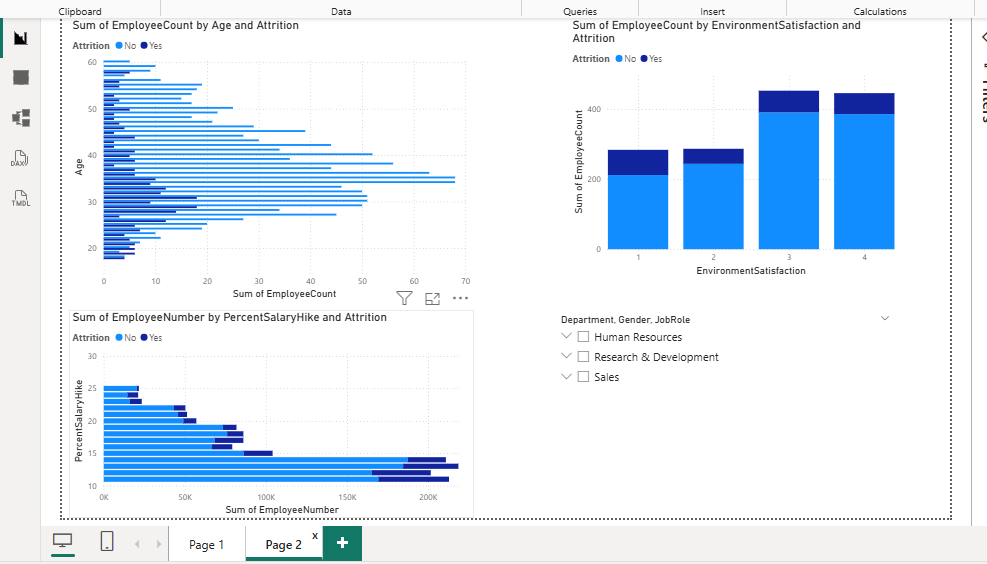

The dashboard page shown, as its layout file describes it:
{"tool":"powerbi","page":{"name":"Page 2","canvas":[1280,720],"ordinal":1},"visuals":[{"type":"clusteredBarChart","fields":{"Category":["WA_Fn-UseC_-HR-Employee-Attrition.Age"],"Y":["Sum(WA_Fn-UseC_-HR-Employee-Attrition.EmployeeCount)"],"Series":["WA_Fn-UseC_-HR-Employee-Attrition.Attrition"]},"box":[10.1,0,582.9,409.9],"z":0},{"type":"barChart","fields":{"Category":["WA_Fn-UseC_-HR-Employee-Attrition.PercentSalaryHike"],"Y":["Sum(WA_Fn-UseC_-HR-Employee-Attrition.EmployeeNumber)"],"Series":["WA_Fn-UseC_-HR-Employee-Attrition.Attrition"]},"box":[10.1,419.9,582.9,300.7],"z":1},{"type":"lineStackedColumnComboChart","fields":{"Category":["WA_Fn-UseC_-HR-Employee-Attrition.EnvironmentSatisfaction"],"Y":["Sum(WA_Fn-UseC_-HR-Employee-Attrition.EmployeeCount)"],"Series":["WA_Fn-UseC_-HR-Employee-Attrition.Attrition"]},"box":[730.7,0,473.7,376.3],"z":2},{"type":"slicer","fields":{"Values":["WA_Fn-UseC_-HR-Employee-Attrition.Department","WA_Fn-UseC_-HR-Employee-Attrition.Gender","WA_Fn-UseC_-HR-Employee-Attrition.JobRole"]},"box":[705.5,419.9,498.9,300.7],"z":3}]}

Visuals, with their boxes on the page's 1280x720 design canvas (x1, y1, x2, y2). These are canvas units, not pixel positions in the 987x564 screenshot, which may show the page scaled, cropped or inside an application window:
clusteredBarChart - WA_Fn-UseC_-HR-Employee-Attrition.Age x Sum(WA_Fn-UseC_-HR-Employee-Attrition.EmployeeCount): region(10, 0, 593, 410)
barChart - WA_Fn-UseC_-HR-Employee-Attrition.PercentSalaryHike x Sum(WA_Fn-UseC_-HR-Employee-Attrition.EmployeeNumber): region(10, 420, 593, 721)
lineStackedColumnComboChart - WA_Fn-UseC_-HR-Employee-Attrition.EnvironmentSatisfaction x Sum(WA_Fn-UseC_-HR-Employee-Attrition.EmployeeCount): region(731, 0, 1204, 376)
slicer - WA_Fn-UseC_-HR-Employee-Attrition.Department x WA_Fn-UseC_-HR-Employee-Attrition.Gender: region(706, 420, 1204, 721)
